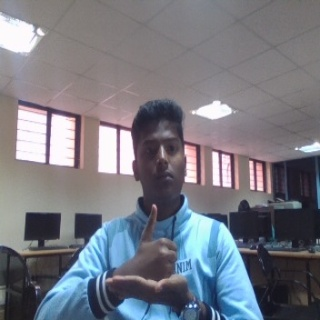Face: (129, 97, 189, 203)
Help: (104, 203, 190, 307)
